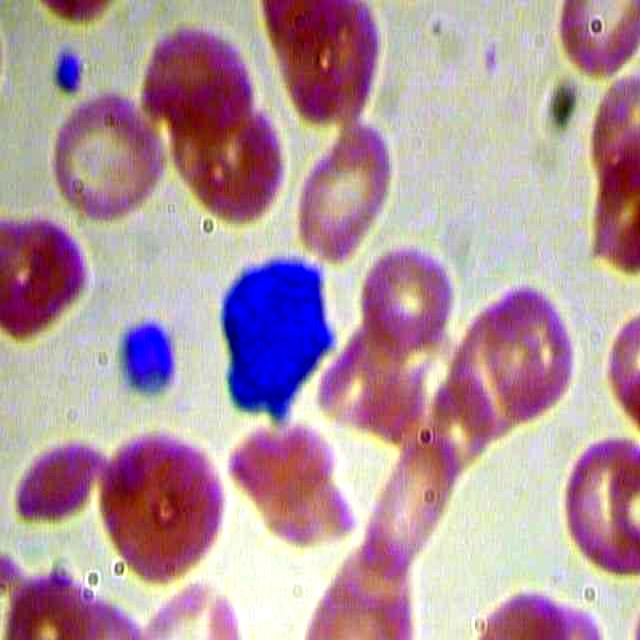Platelets: (106, 315, 181, 412), (51, 46, 89, 106)
RBC: (97, 427, 230, 588), (46, 89, 171, 236), (289, 118, 396, 262), (357, 247, 454, 361), (1, 218, 89, 342), (13, 432, 99, 527)
WBC: (218, 241, 332, 427)
